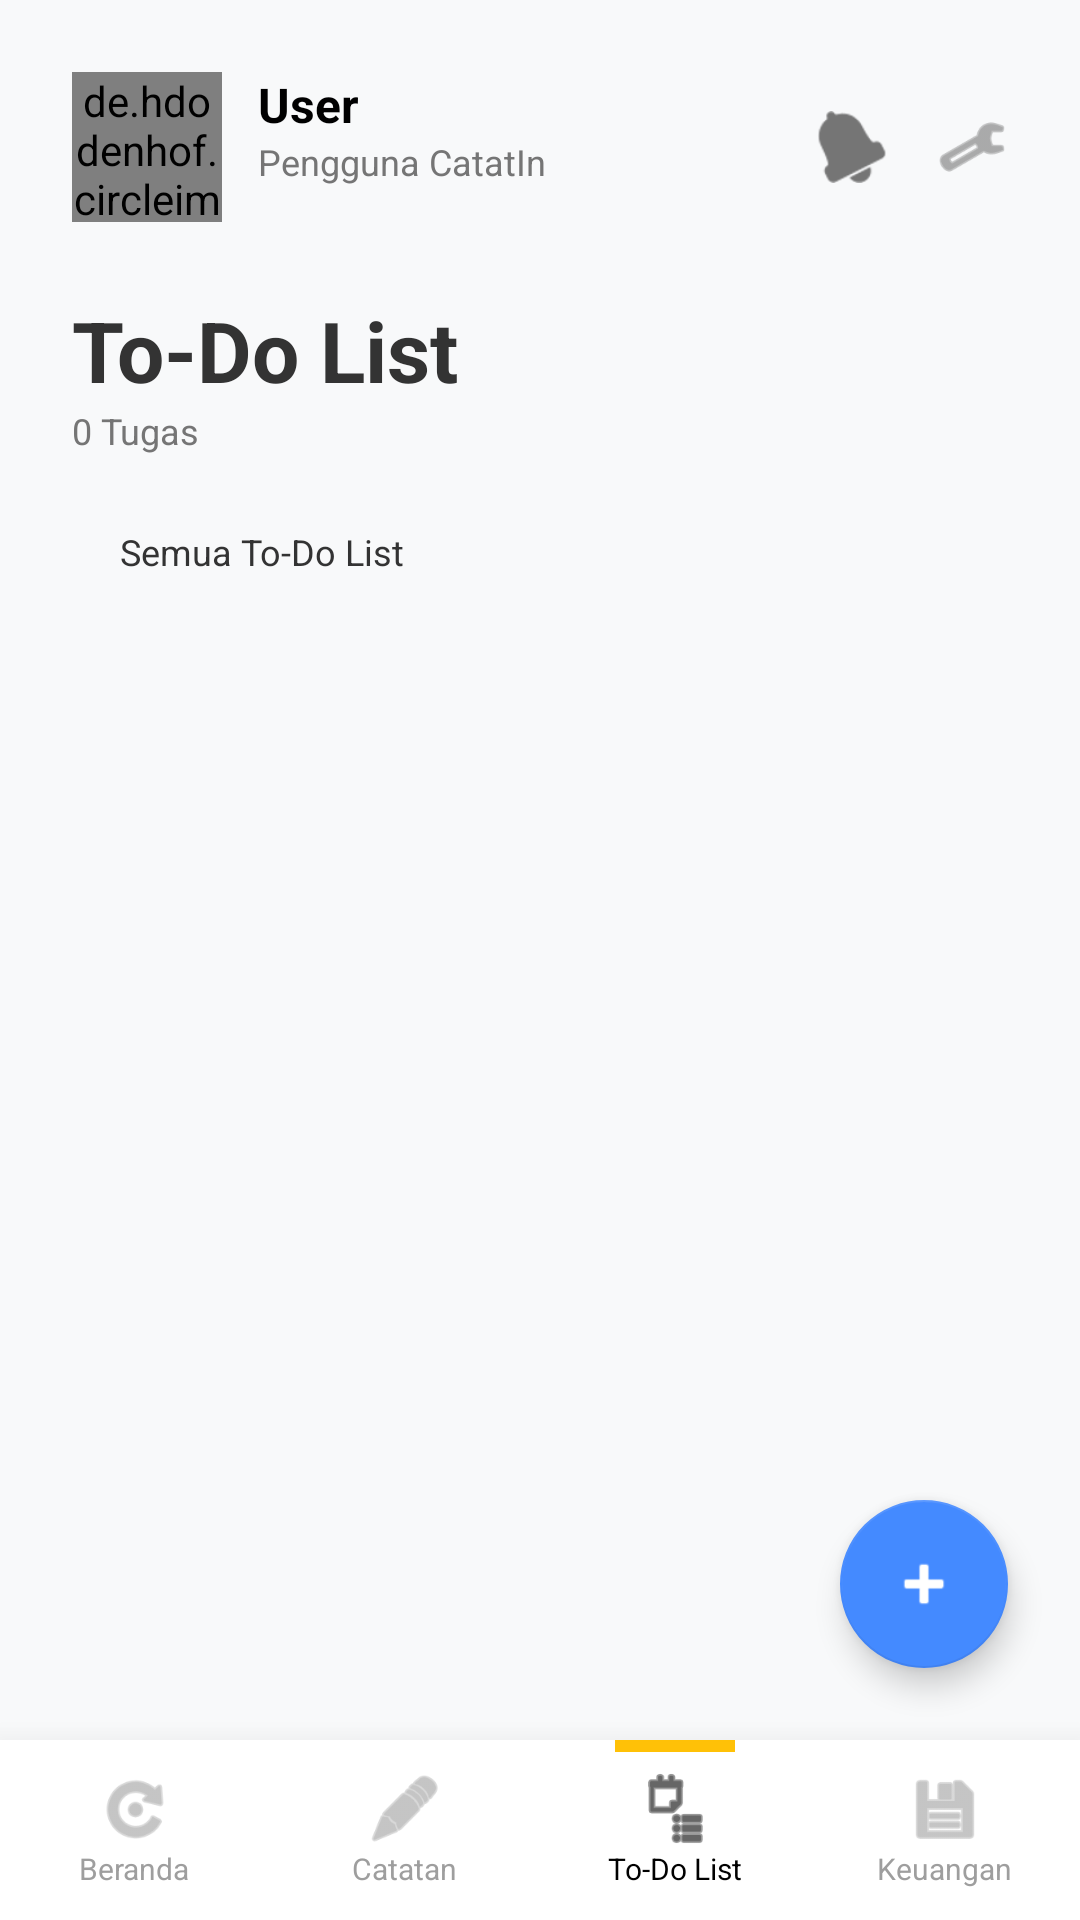

Named icons in this screenshot (1080px x 1920px) and their centers, (x,y):
add: (924,1584)
agenda: (675,1808)
edit: (404,1808)
popup reminder: (852,147)
preferences: (972,147)
rotate: (135,1809)
save: (945,1809)
